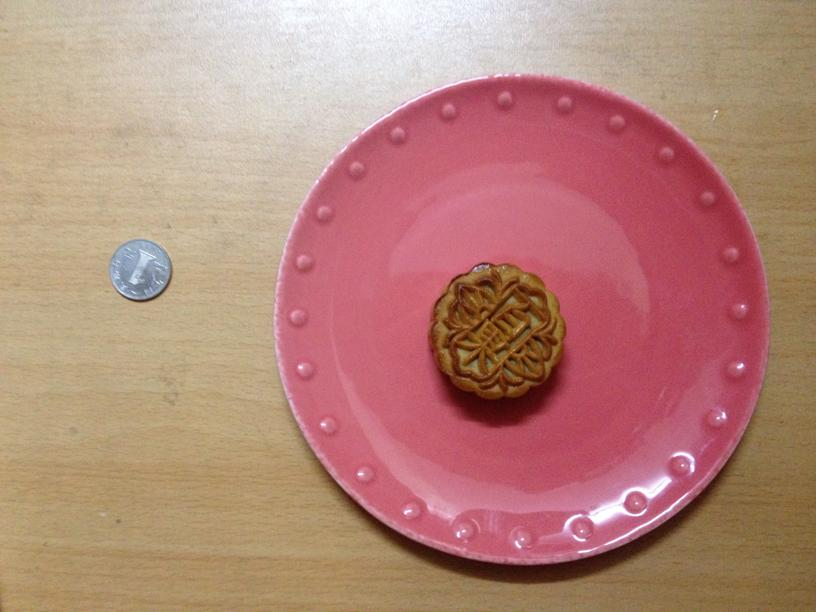coin: (110, 239, 172, 301)
mooncake: (427, 264, 567, 398)
